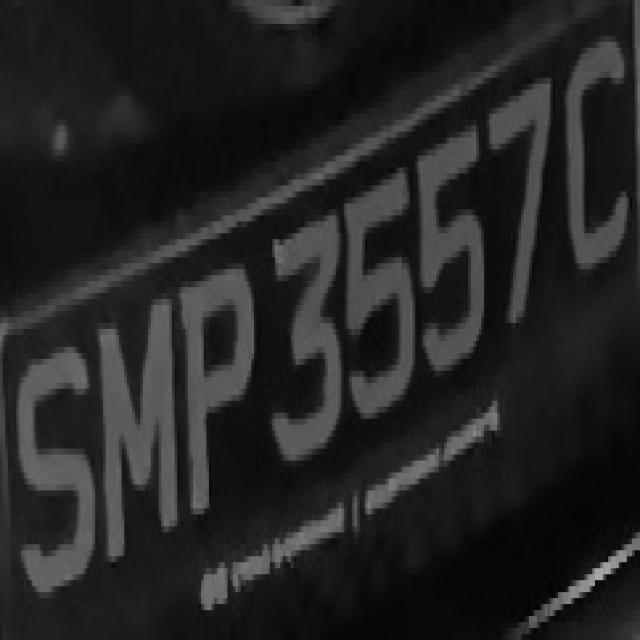3: (264, 204, 352, 448)
5: (346, 144, 418, 430), (418, 120, 492, 382)
7: (473, 72, 558, 311)
C: (566, 36, 635, 287)
M: (88, 281, 182, 556)
P: (169, 234, 254, 526)
S: (5, 323, 100, 610)
